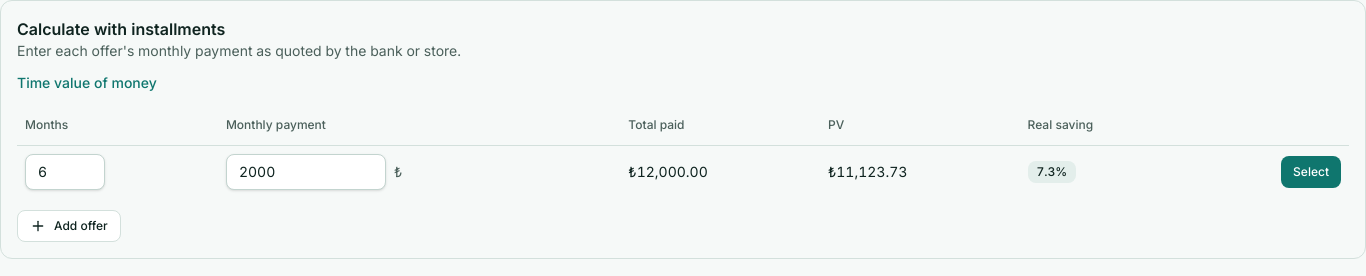
Scenario: InstallmentCalculator › does not compute or offer a selection for a row with no months or no payment
Replace the text in the number field named "Offer 1 months" with "0". click: (65, 172)
box: 25,154 -> 105,190
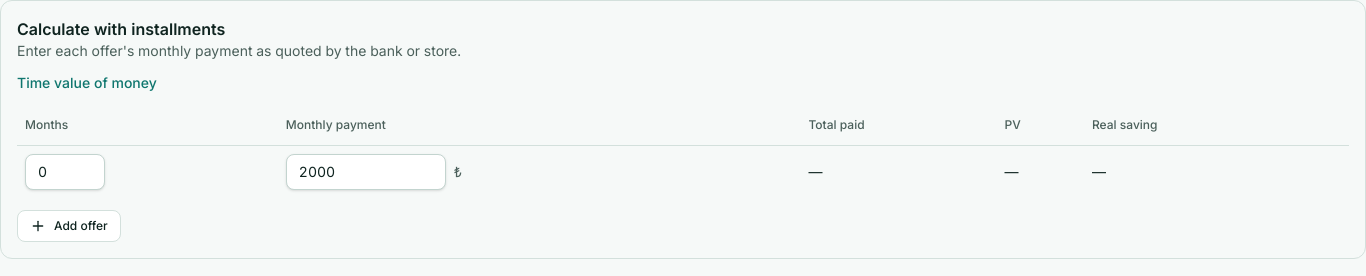
Expected: the button "Select" is gone
